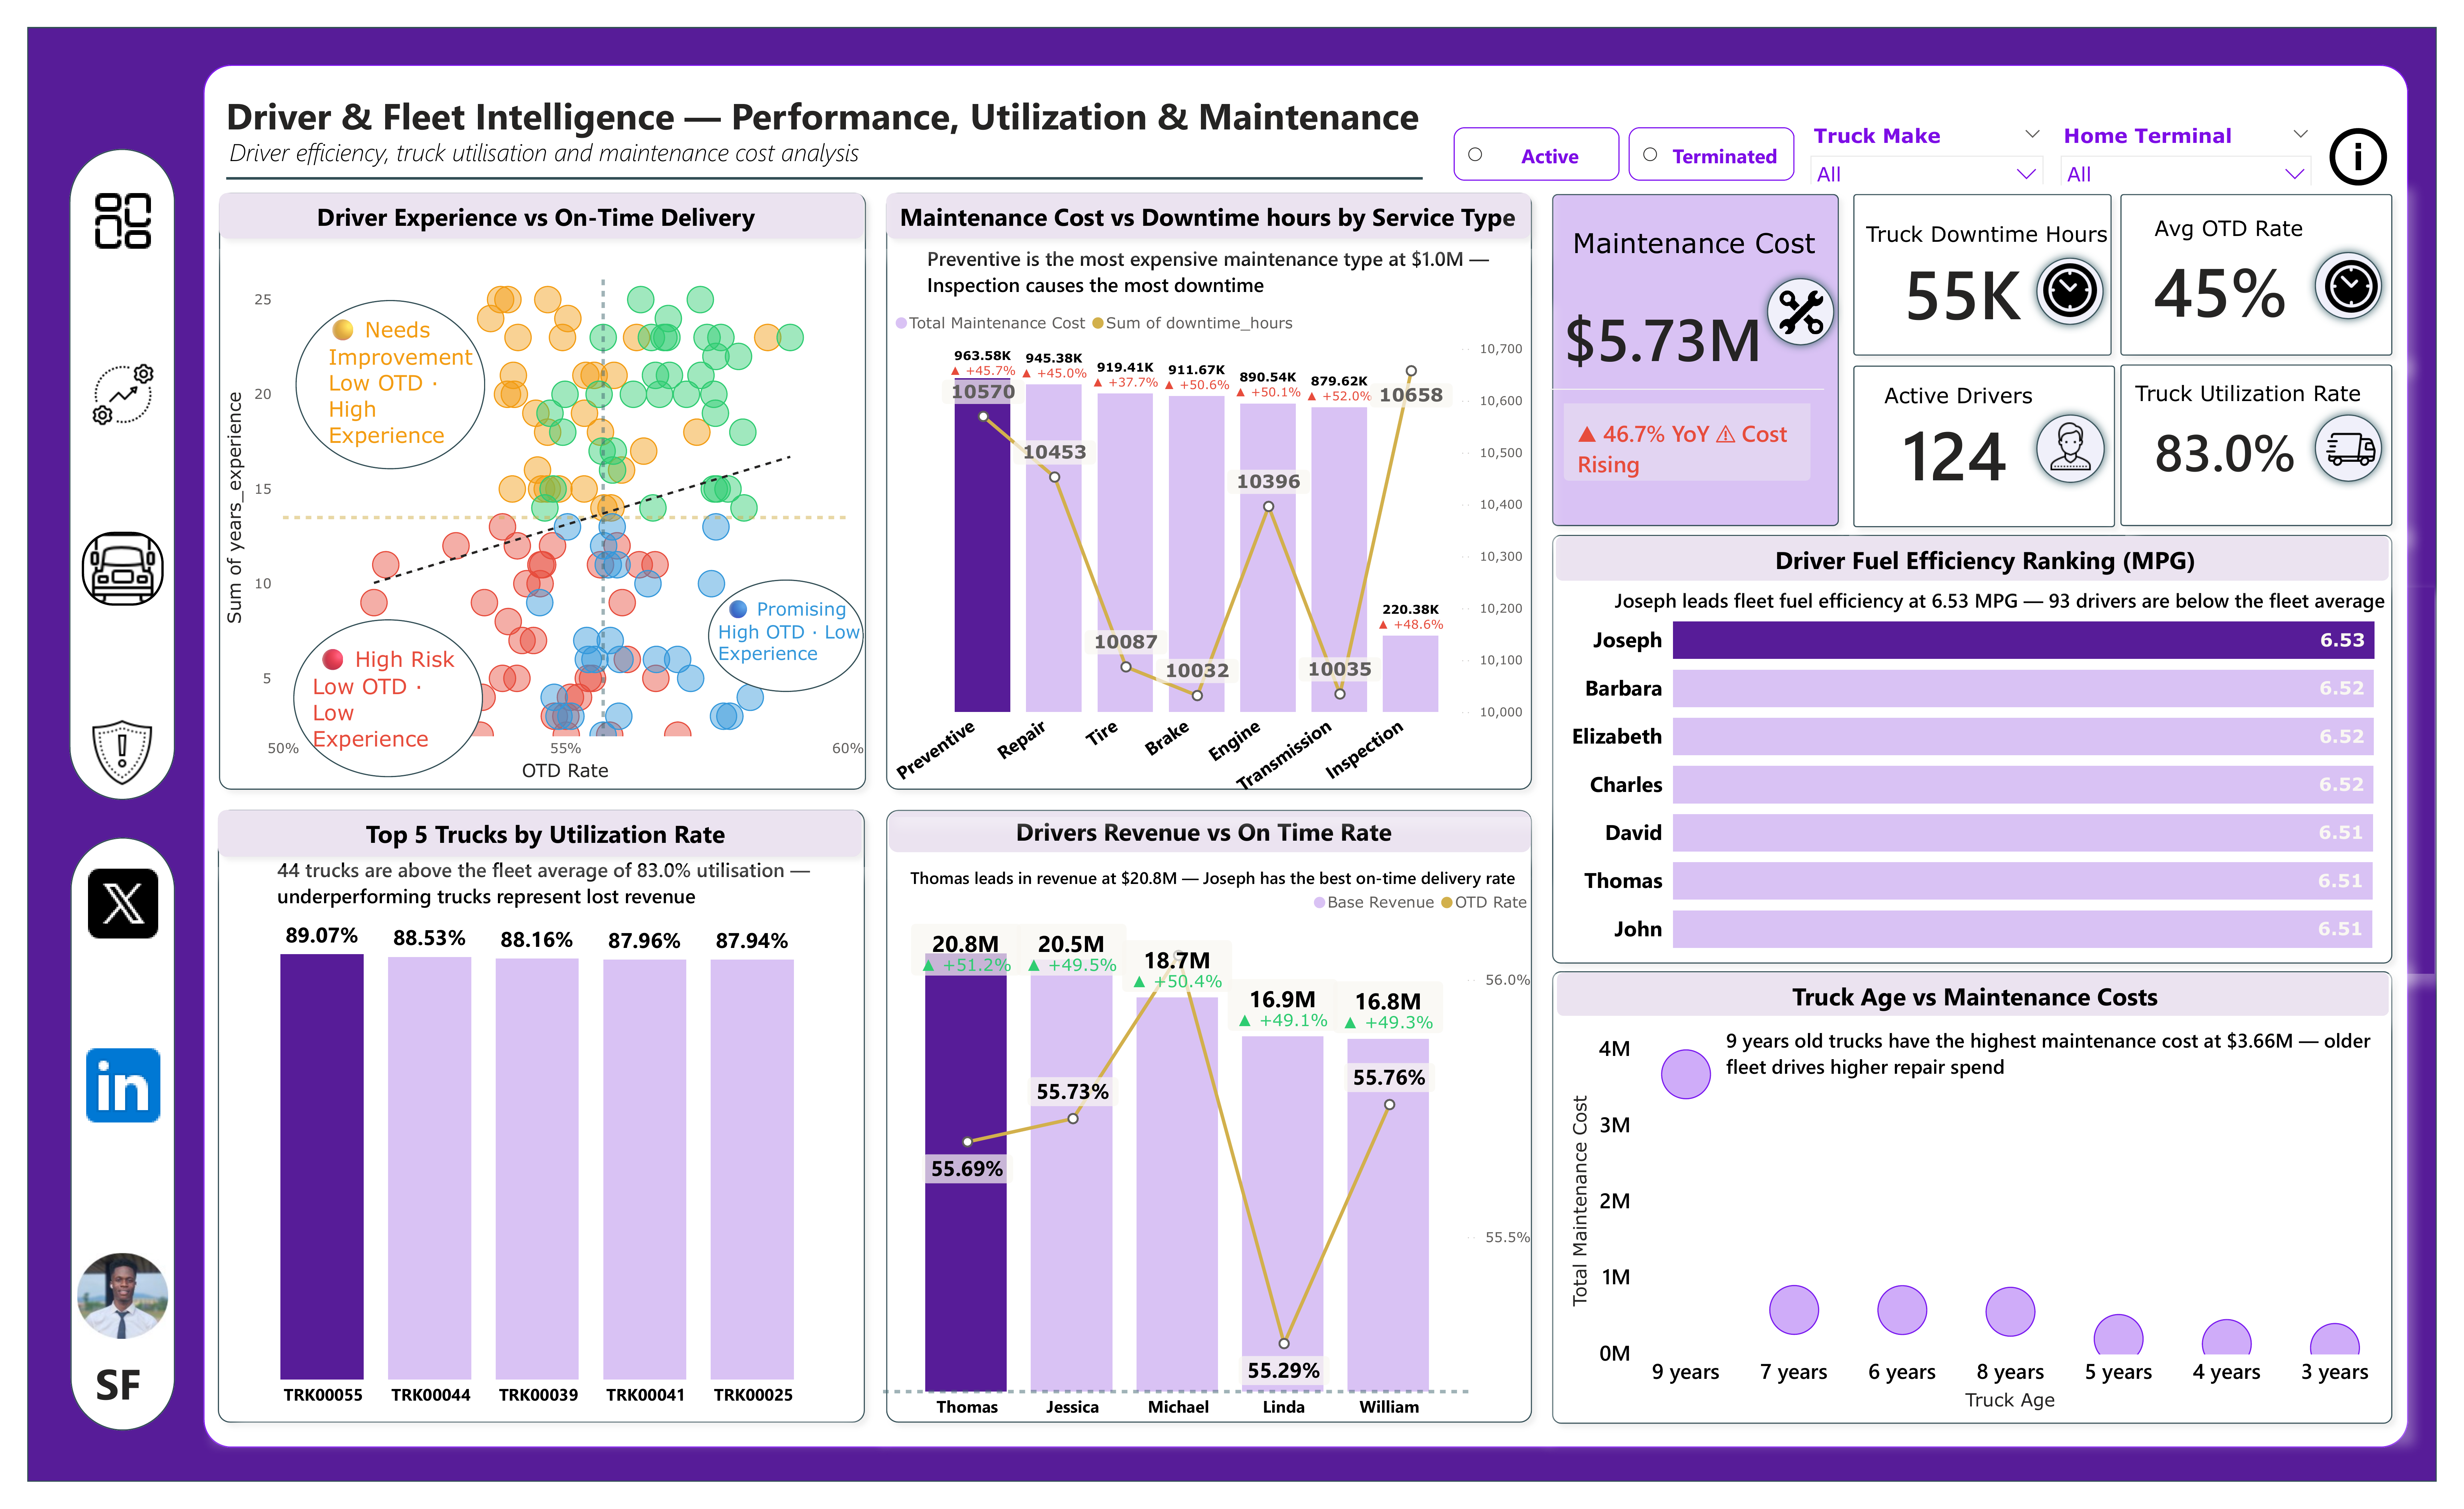

The dashboard page shown, as its layout file describes it:
{"tool":"powerbi","page":{"name":"Drivers & Fleet","canvas":[2120,1280],"ordinal":2},"visuals":[{"type":"shape","box":[0,0,2120,1280],"z":0},{"type":"shape","box":[155,27.5,1940,1222.5],"z":1000},{"type":"shape","box":[36.7,106.7,93.3,573.3],"z":2000},{"type":"shape","box":[37.5,712.5,92.5,522.5],"z":3000},{"type":"shape","box":[1333.3,821.7,756.7,416.7],"z":4000},{"type":"shape","box":[160,136.7,586.7,543.3],"z":5000},{"type":"shape","box":[158.9,680,586.7,556.7],"z":6000},{"type":"shape","box":[746.7,680,586.7,556.7],"z":7000},{"type":"shape","box":[1333.3,438.3,756.7,395],"z":8000},{"type":"shape","box":[746.7,136.7,586.7,543.3],"z":9000},{"type":"shape","box":[1332.5,137.5,270,310],"z":10000},{"type":"shape","box":[1597.5,137.5,245,160],"z":11000},{"type":"shape","box":[1833.3,138.3,256.7,160],"z":12000},{"type":"shape","box":[1598.5,288.7,247.1,160],"z":13000},{"type":"shape","box":[1832.5,287.5,257.5,160],"z":14000},{"type":"lineClusteredColumnComboChart","fields":{"Category":["drivers.first_name"],"Y":["Analysis.Base Revenue"],"Y2":["Analysis.OTD Rate"]},"box":[747.5,750,582.5,485],"z":15000},{"type":"clusteredBarChart","fields":{"Category":["drivers.first_name"],"Y":["Analysis.Avg. MPG"]},"box":[1352.5,492.5,765,340],"z":16000},{"type":"scatterChart","fields":{"Category":["drivers.driver_id"],"X":["Analysis.OTD Rate"],"Y":["Sum(drivers.years_experience)"],"Series":["drivers.Driver Performance Category"]},"box":[169.9,209.5,572.5,458.5],"z":17000},{"type":"clusteredColumnChart","fields":{"Y":["Avg(truck_utilization_metrics.utilization_rate)"],"Category":["trucks.truck_id"]},"box":[180.4,770.6,539.2,452.9],"z":18000},{"type":"scatterChart","fields":{"Y":["Analysis.Total Maintenance Cost"],"X":["trucks.Truck Age"]},"box":[1354.5,879.7,719.1,342.1],"z":19000},{"type":"cardVisual","fields":{"Data":["Analysis.Total Maintenance Cost"]},"box":[1323.3,208.3,275,220],"z":20000},{"type":"cardVisual","fields":{"Data":["Analysis.Driver's Avg. OTD Rate"]},"box":[1841.7,170,208.3,116.7],"z":21000},{"type":"cardVisual","fields":{"Data":["Analysis.Avg. Truck Utilization"]},"box":[1842.5,312.5,227.5,115],"z":22000},{"type":"cardVisual","fields":{"Data":["Analysis.Truck Downtime Hours"]},"box":[1621.7,183.3,166.7,95],"z":23000},{"type":"shape","box":[1523.3,213.3,75,75],"z":24000},{"type":"image","box":[1536.7,231.7,48.3,38.3],"z":25000},{"type":"textbox","box":[1355,170,260,48.3],"z":26000},{"type":"textbox","box":[1613.3,165,260,38.3],"z":27000},{"type":"textbox","box":[1867.1,160,191.4,42.9],"z":28000},{"type":"shape","box":[1760,195,75,75],"z":29000},{"type":"image","box":[1720,208.3,155,46.7],"z":30000},{"type":"shape","box":[2005,190,75,75],"z":31000},{"type":"image","box":[2006.1,204.8,76.8,46.5],"z":32000},{"type":"shape","box":[2005,333.3,75,75],"z":33000},{"type":"textbox","box":[1850,305,225,40],"z":34000},{"type":"image","box":[2005,350,78.3,43.3],"z":35000},{"type":"cardVisual","fields":{"Data":["Analysis.Active Drivers"]},"box":[1621.4,328.6,167.1,87.1],"z":36000},{"type":"textbox","box":[1628.6,307.1,184.3,38.6],"z":37000},{"type":"shape","box":[1760,332.9,75.7,75.7],"z":38000},{"type":"image","box":[1764.4,342.2,66.7,53.3],"z":39000},{"type":"shape","box":[598.8,486.2,137.5,98.8],"z":40000},{"type":"textbox","box":[602.5,493.8,142.5,93.8],"z":41000},{"type":"shape","box":[236,240,167,149],"z":42000},{"type":"shape","box":[233.8,521.2,167.5,138.8],"z":43000},{"type":"textbox","box":[246.2,537.5,141.2,137.5],"z":44000},{"type":"textbox","box":[260,248,153,133],"z":45000},{"type":"cardVisual","fields":{"Data":["Callout Measures.Truck Age Maintenance Insight"]},"box":[1466.2,826.2,630.7,148.9],"z":46000},{"type":"cardVisual","fields":{"Data":["Callout Measures.Driver MPG Insight"]},"box":[1367.5,460,737.5,85],"z":47000},{"type":"cardVisual","fields":{"Data":["Callout Measures.Driver Revenue OTD Insight"]},"box":[747.5,692.5,607.5,107.5],"z":48000},{"type":"cardVisual","fields":{"Data":["Callout Measures.Truck Utilization Insight"]},"box":[191.2,681.2,536.2,138.8],"z":49000},{"type":"cardVisual","fields":{"Data":["Callout Measures.Maintenance Type Insight"]},"box":[763.3,153.3,560,120],"z":50000},{"type":"image","box":[43.8,1030,80,172.5],"z":51000},{"type":"slicer","fields":{"Values":["drivers.home_terminal"]},"box":[1779,80,241.4,58.6],"z":52000},{"type":"slicer","fields":{"Values":["trucks.make"]},"box":[1559,80,225,57.5],"z":53000},{"type":"advancedSlicerVisual","fields":{"Values":["drivers.employment_status"]},"box":[1250,82.5,311.2,57.5],"z":54000},{"type":"textbox","box":[55.3,1162.7,68,64.7],"z":55000},{"type":"textbox","box":[169.7,50.1,1079.5,64],"z":56000},{"type":"shape","box":[1345,448.3,733.3,38.3],"z":58000},{"type":"image","box":[30.3,137.5,107.5,65],"z":59000},{"type":"textbox","box":[1532.9,448.6,404.3,50],"z":60000},{"type":"image","box":[45.3,602.5,77.5,72.5],"z":61000},{"type":"image","box":[47.8,444.2,72.5,65],"z":62000},{"type":"image","box":[39.1,295.8,90,55],"z":63000},{"type":"shape","box":[757.5,690,565,36.2],"z":64000},{"type":"textbox","box":[865,688.3,350,50],"z":65000},{"type":"shape","box":[158.8,680,583.8,58.8],"z":66000},{"type":"textbox","box":[293.3,690,405,50],"z":67000},{"type":"shape","box":[746.7,136.7,585,58.3],"z":68000},{"type":"textbox","box":[763.3,146.7,560,48.3],"z":69000},{"type":"shape","box":[160,136.7,585,58.3],"z":70000},{"type":"textbox","box":[250,146.7,405,50],"z":71000},{"type":"textbox","box":[172.5,90,742.5,45],"z":72000},{"type":"shape","box":[175,102.5,1052.5,60],"z":73000},{"type":"image","box":[7.5,887.5,152.5,87.5],"z":74000},{"type":"image","box":[38.8,735,90,72.5],"z":75000},{"type":"lineClusteredColumnComboChart","fields":{"Category":["maintenance_records.maintenance_type"],"Y":["Analysis.Total Maintenance Cost"],"Y2":["Sum(maintenance_records.downtime_hours)"]},"box":[758,240,576,455],"z":76000},{"type":"shape","box":[1346,832,732,38],"z":77000},{"type":"textbox","box":[1547.5,832.5,372.5,55],"z":78000},{"type":"actionButton","box":[2020,82.5,75,62.5],"z":79000}]}

Visuals, with their boxes on the page's 2120x1280 design canvas (x1, y1, x2, y2). These are canvas units, not pixel positions in the 2464x1509 screenshot, which may show the page scaled, cropped or inside an application window:
shape: bbox=(0, 0, 2120, 1280)
shape: bbox=(155, 28, 2095, 1250)
shape: bbox=(37, 107, 130, 680)
shape: bbox=(38, 712, 130, 1235)
shape: bbox=(1333, 822, 2090, 1238)
shape: bbox=(160, 137, 747, 680)
shape: bbox=(159, 680, 746, 1237)
shape: bbox=(747, 680, 1333, 1237)
shape: bbox=(1333, 438, 2090, 833)
shape: bbox=(747, 137, 1333, 680)
shape: bbox=(1332, 138, 1602, 448)
shape: bbox=(1598, 138, 1842, 298)
shape: bbox=(1833, 138, 2090, 298)
shape: bbox=(1598, 289, 1846, 449)
shape: bbox=(1832, 288, 2090, 448)
lineClusteredColumnComboChart - drivers.first_name x Analysis.Base Revenue: bbox=(748, 750, 1330, 1235)
clusteredBarChart - drivers.first_name x Analysis.Avg. MPG: bbox=(1352, 492, 2118, 832)
scatterChart - drivers.driver_id x Analysis.OTD Rate: bbox=(170, 210, 742, 668)
clusteredColumnChart - Avg(truck_utilization_metrics.utilization_rate) x trucks.truck_id: bbox=(180, 771, 720, 1224)
scatterChart - Analysis.Total Maintenance Cost x trucks.Truck Age: bbox=(1354, 880, 2074, 1222)
cardVisual - Analysis.Total Maintenance Cost: bbox=(1323, 208, 1598, 428)
cardVisual - Analysis.Driver's Avg. OTD Rate: bbox=(1842, 170, 2050, 287)
cardVisual - Analysis.Avg. Truck Utilization: bbox=(1842, 312, 2070, 428)
cardVisual - Analysis.Truck Downtime Hours: bbox=(1622, 183, 1788, 278)
shape: bbox=(1523, 213, 1598, 288)
image: bbox=(1537, 232, 1585, 270)
textbox: bbox=(1355, 170, 1615, 218)
textbox: bbox=(1613, 165, 1873, 203)
textbox: bbox=(1867, 160, 2058, 203)
shape: bbox=(1760, 195, 1835, 270)
image: bbox=(1720, 208, 1875, 255)
shape: bbox=(2005, 190, 2080, 265)
image: bbox=(2006, 205, 2083, 251)
shape: bbox=(2005, 333, 2080, 408)
textbox: bbox=(1850, 305, 2075, 345)
image: bbox=(2005, 350, 2083, 393)
cardVisual - Analysis.Active Drivers: bbox=(1621, 329, 1788, 416)
textbox: bbox=(1629, 307, 1813, 346)
shape: bbox=(1760, 333, 1836, 409)
image: bbox=(1764, 342, 1831, 396)
shape: bbox=(599, 486, 736, 585)
textbox: bbox=(602, 494, 745, 588)
shape: bbox=(236, 240, 403, 389)
shape: bbox=(234, 521, 401, 660)
textbox: bbox=(246, 538, 387, 675)
textbox: bbox=(260, 248, 413, 381)
cardVisual - Callout Measures.Truck Age Maintenance Insight: bbox=(1466, 826, 2097, 975)
cardVisual - Callout Measures.Driver MPG Insight: bbox=(1368, 460, 2105, 545)
cardVisual - Callout Measures.Driver Revenue OTD Insight: bbox=(748, 692, 1355, 800)
cardVisual - Callout Measures.Truck Utilization Insight: bbox=(191, 681, 727, 820)
cardVisual - Callout Measures.Maintenance Type Insight: bbox=(763, 153, 1323, 273)
image: bbox=(44, 1030, 124, 1202)
slicer - drivers.home_terminal: bbox=(1779, 80, 2020, 139)
slicer - trucks.make: bbox=(1559, 80, 1784, 138)
advancedSlicerVisual - drivers.employment_status: bbox=(1250, 82, 1561, 140)
textbox: bbox=(55, 1163, 123, 1227)
textbox: bbox=(170, 50, 1249, 114)
shape: bbox=(1345, 448, 2078, 487)
image: bbox=(30, 138, 138, 202)
textbox: bbox=(1533, 449, 1937, 499)
image: bbox=(45, 602, 123, 675)
image: bbox=(48, 444, 120, 509)
image: bbox=(39, 296, 129, 351)
shape: bbox=(758, 690, 1322, 726)
textbox: bbox=(865, 688, 1215, 738)
shape: bbox=(159, 680, 743, 739)
textbox: bbox=(293, 690, 698, 740)
shape: bbox=(747, 137, 1332, 195)
textbox: bbox=(763, 147, 1323, 195)
shape: bbox=(160, 137, 745, 195)
textbox: bbox=(250, 147, 655, 197)
textbox: bbox=(172, 90, 915, 135)
shape: bbox=(175, 102, 1228, 162)
image: bbox=(8, 888, 160, 975)
image: bbox=(39, 735, 129, 808)
lineClusteredColumnComboChart - maintenance_records.maintenance_type x Analysis.Total Maintenance Cost: bbox=(758, 240, 1334, 695)
shape: bbox=(1346, 832, 2078, 870)
textbox: bbox=(1548, 832, 1920, 888)
actionButton: bbox=(2020, 82, 2095, 145)
